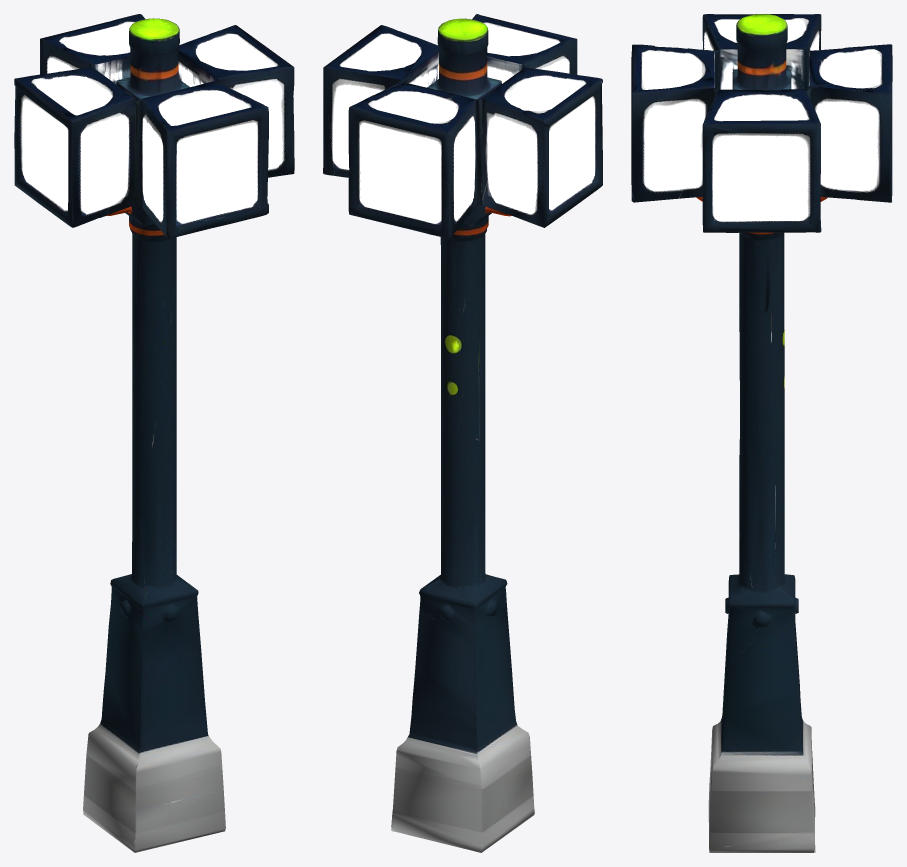
The model's file is plaza_light_column.glb.
3 renders of one model, left to right at view 1: azimuth 30°, elevation 25°; view 2: azimuth 150°, elevation 25°; view 3: azimuth 270°, elevation 25°, orthographic.
Bounding box in the file's own units: 0.5572 × 1.9 × 0.557.
Materials: 1 (1 with a texture image).
